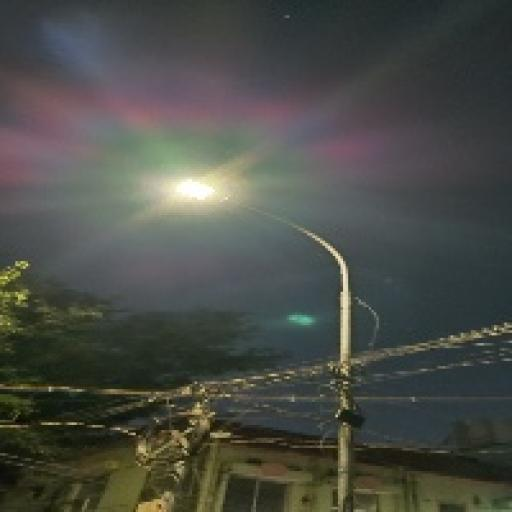Working: (162, 172, 233, 212)
